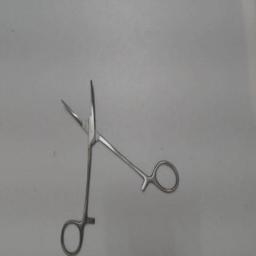Crile Artery Forceps: (54, 71, 182, 255)
